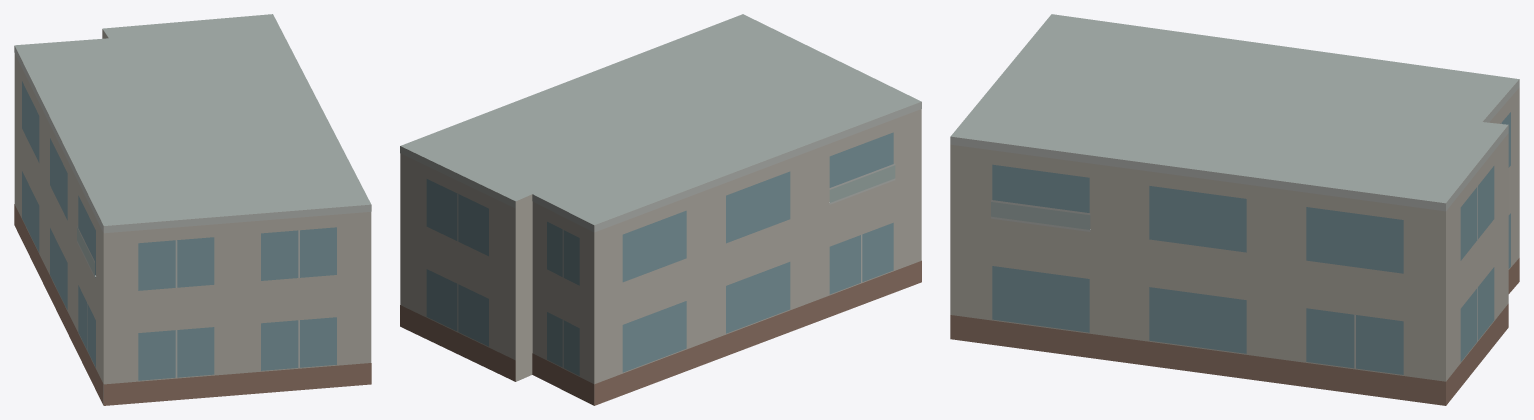
Rendered from survey-upis-32790997.glb.
3 views of the same model, side by side, from view 1: azimuth 30°, elevation 25°; view 2: azimuth 150°, elevation 25°; view 3: azimuth 270°, elevation 25° (orthographic). The views are drawn at different scales.
Visible parts, largest first — view 1: survey-upis-32790997.tmp; view 2: survey-upis-32790997.tmp; view 3: survey-upis-32790997.tmp.
Boxes of the visible parts, bbox=[...] form: survey-upis-32790997.tmp: bbox=[14, 14, 371, 405]; survey-upis-32790997.tmp: bbox=[400, 14, 921, 405]; survey-upis-32790997.tmp: bbox=[950, 14, 1519, 405].
Bounding box in the file's own units: 12.24 × 6.1 × 15.54.
